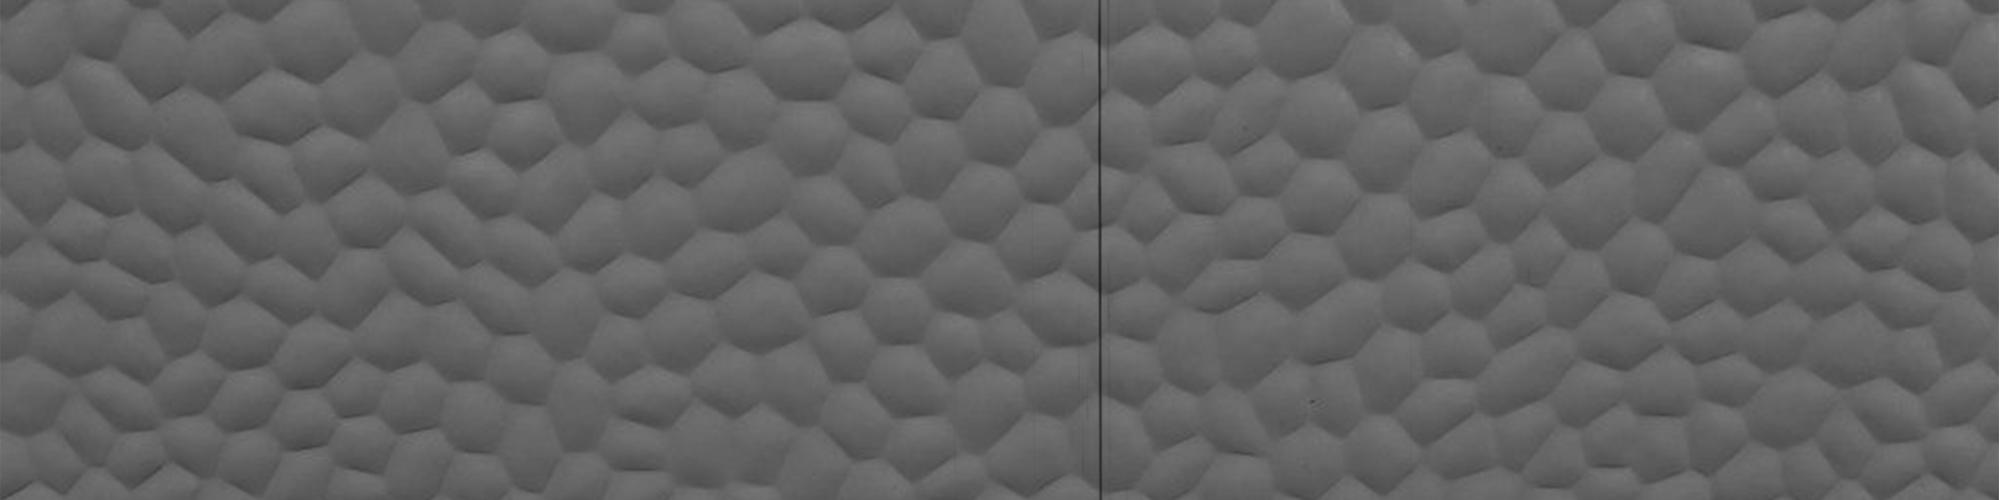DieDrag: (1077, 4, 1125, 500)
